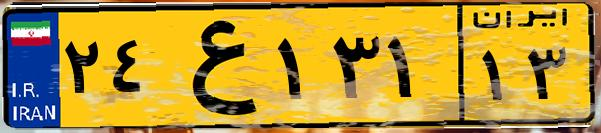1: (270, 28, 330, 110), (385, 28, 445, 110), (475, 38, 525, 113)
2: (57, 26, 110, 100)
3: (330, 28, 385, 110), (525, 38, 570, 115)
4: (110, 28, 158, 98)
ع: (158, 12, 270, 120)
